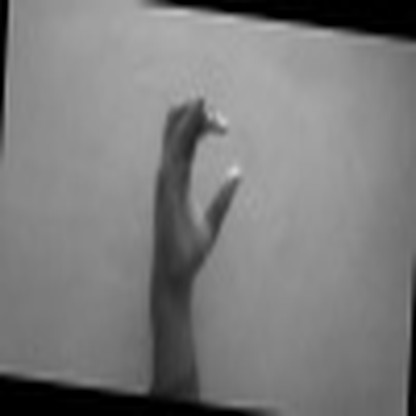c: (146, 90, 246, 275)
